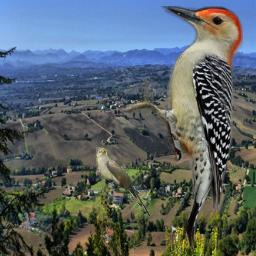Cuckoo: (96, 147, 151, 219)
Woodpecker: (119, 6, 243, 248)
